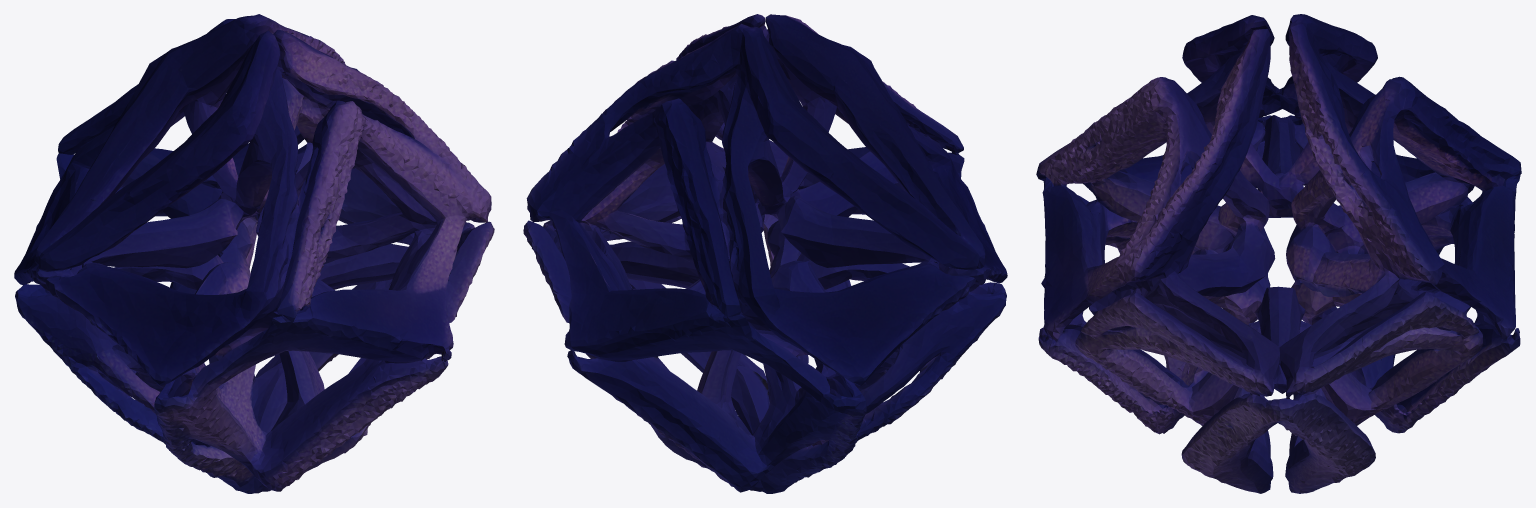
The model's file is ufo_1.glb.
The picture shows the model from 3 angles, left to right: view 1: azimuth 30°, elevation 25°; view 2: azimuth 150°, elevation 25°; view 3: azimuth 270°, elevation 25°; orthographic projection. The views are drawn at different scales.
Parts seen in each view (by area): view 1: geometry_0; view 2: geometry_0; view 3: geometry_0.
Boxes of the visible parts, left/top/right/bottom form: geometry_0: left=14, top=14, right=494, bottom=493; geometry_0: left=523, top=14, right=1007, bottom=493; geometry_0: left=1036, top=14, right=1521, bottom=493.
Bounding box in the file's own units: 0.9964 × 0.9997 × 0.9208.
1 material, 1 textured.
